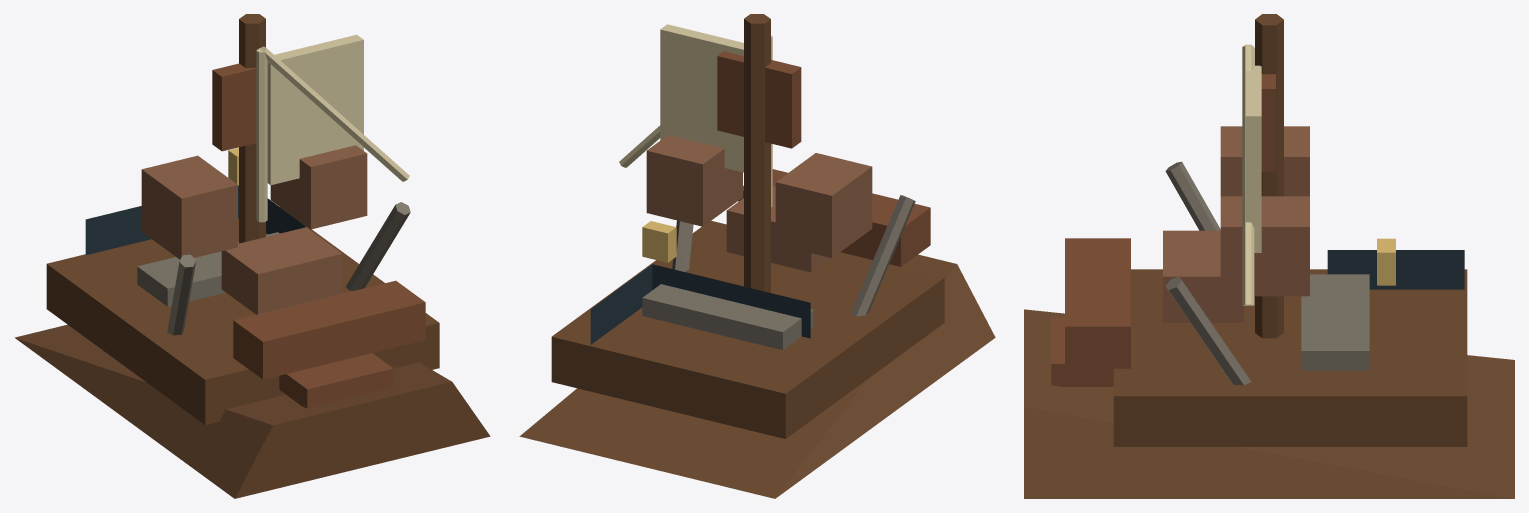
Rendered from fishing-vessel.obj.
3 views of the same model, side by side, from view 1: azimuth 30°, elevation 25°; view 2: azimuth 150°, elevation 25°; view 3: azimuth 270°, elevation 25° (orthographic). The views are drawn at different scales.
Visible parts, largest first — view 1: ship; view 2: ship; view 3: ship.
Part boxes in pixels (bbox=[...]): ship: bbox=[15, 14, 490, 498]; ship: bbox=[519, 14, 995, 498]; ship: bbox=[1024, 14, 1514, 498].
Bounding box in the file's own units: 1.66 × 2.13 × 2.31.
